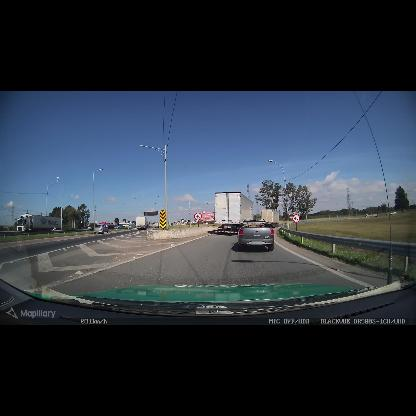O-MP: (159, 210, 166, 229)
R-19: (292, 214, 300, 223), (194, 212, 202, 220)
